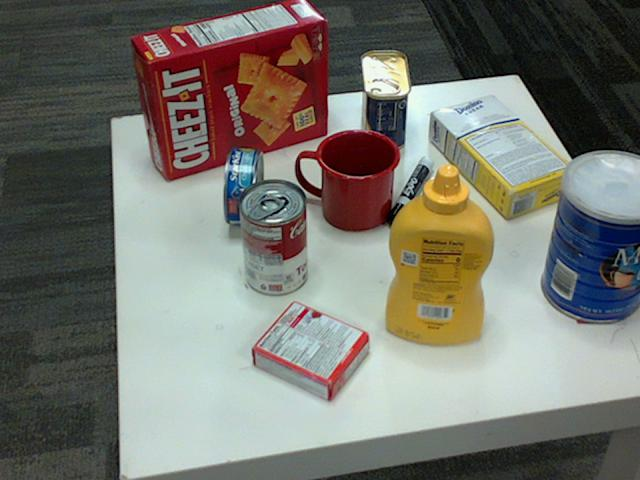cracker_box: (131, 0, 326, 177)
gelatin_box: (249, 301, 366, 402)
large_marker: (386, 159, 434, 226)
master_chef_can: (542, 151, 639, 323)
mug: (296, 127, 400, 230)
mustard_bottle: (384, 165, 494, 344)
potted_meat_can: (358, 52, 409, 151)
sugar_box: (429, 95, 578, 219)
tomato_soup_can: (238, 179, 307, 296)
tuna_fish_can: (222, 147, 263, 224)
